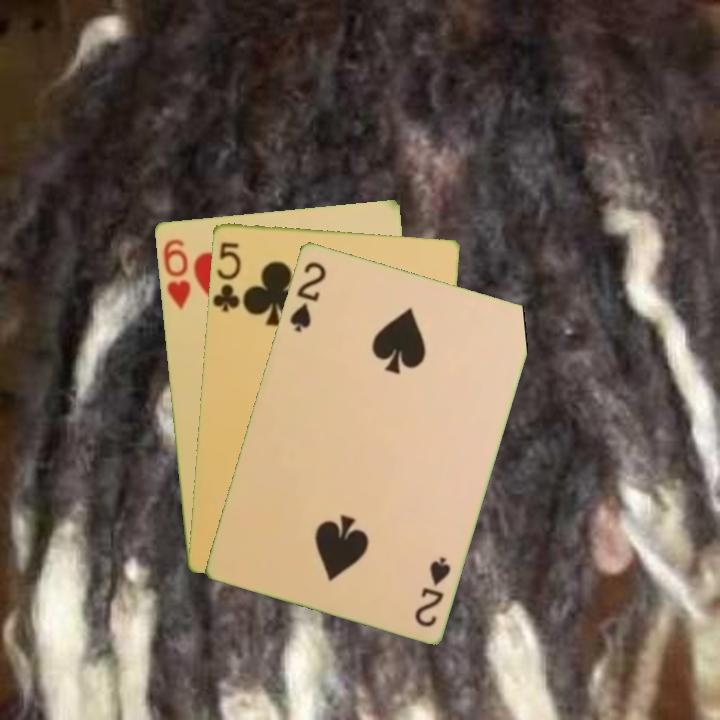2s: (285, 257, 329, 335), (411, 552, 453, 630)
5c: (210, 238, 246, 314)
6h: (159, 235, 193, 312)
